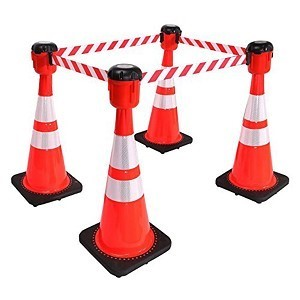traffic cone: (79, 94, 171, 276), (11, 63, 83, 207), (216, 64, 289, 204), (133, 43, 193, 156)
